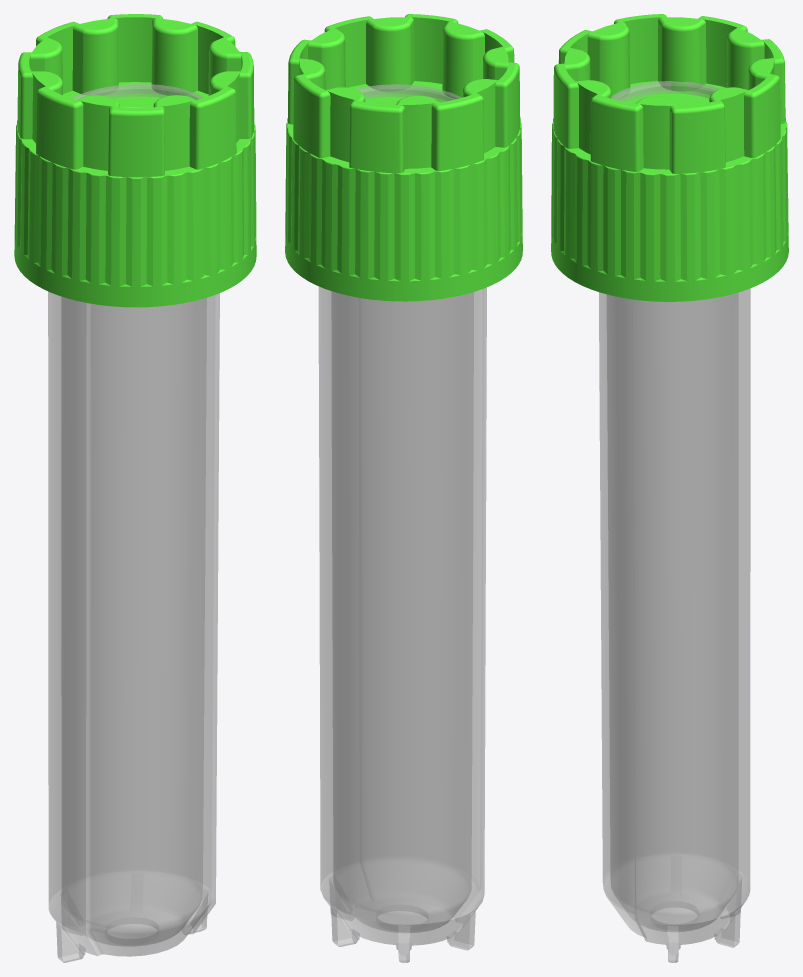
The model's file is sample03.glb.
3 renders of one model, left to right at view 1: azimuth 30°, elevation 25°; view 2: azimuth 150°, elevation 25°; view 3: azimuth 270°, elevation 25°, orthographic.
Visible parts, largest first — view 1: Body1.002, Body1; view 2: Body1.002, Body1; view 3: Body1.002, Body1.
Part boxes in pixels (box(x1,y1,x2,y2)): Body1.002: box(48, 84, 219, 962); Body1: box(14, 14, 256, 307); Body1.002: box(318, 84, 486, 962); Body1: box(285, 14, 522, 301); Body1.002: box(599, 81, 750, 962); Body1: box(551, 14, 788, 301).
Size of the model in its own units: 0.0121 by 0.0487 by 0.0121.
